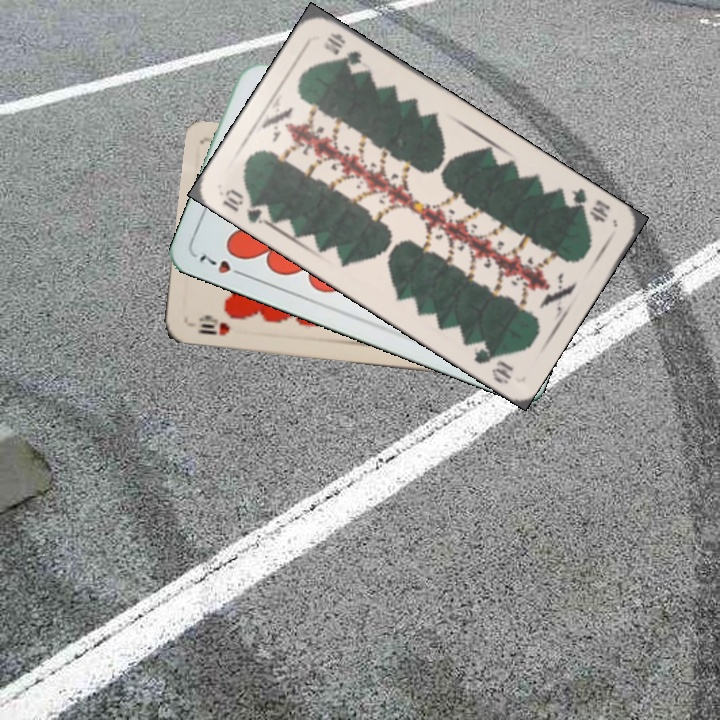G10: (218, 184, 274, 227), (567, 184, 613, 226)
H10: (194, 312, 233, 338)
H7: (194, 247, 250, 280)
